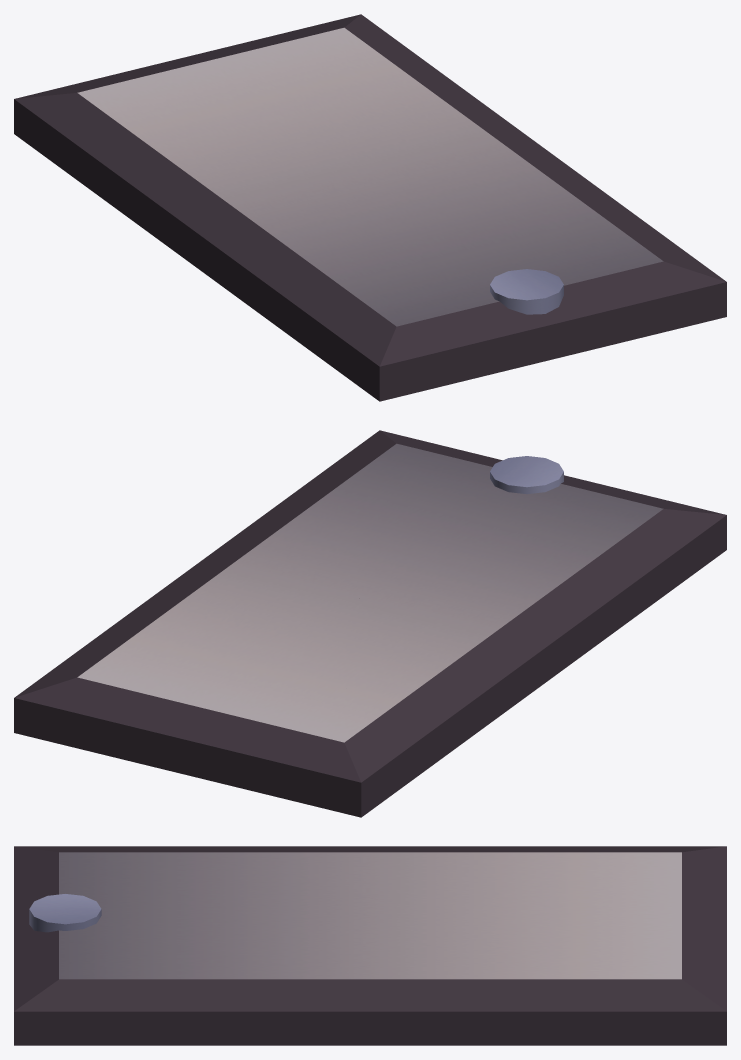
Rendered from M_phone_fragments.FBX.
3 renders of one model, top to bottom at view 1: azimuth 30°, elevation 25°; view 2: azimuth 150°, elevation 25°; view 3: azimuth 270°, elevation 25°, orthographic. The views are drawn at different scales.
Visible parts, largest first — view 1: Box015_Part_2, Box015_Part_1, Box015_Part_3; view 2: Box015_Part_3, Box015_Part_1, Box015_Part_2; view 3: Box015_Part_3, Box015_Part_2, Box015_Part_1.
Part boxes in pixels (x1,y1,x2,y2): Box015_Part_2: (315,171,726,401); Box015_Part_1: (14,91,463,354); Box015_Part_3: (41,14,576,197); Box015_Part_3: (14,533,365,810); Box015_Part_1: (331,548,663,817); Box015_Part_2: (230,430,726,596); Box015_Part_3: (283,854,726,1045); Box015_Part_2: (14,846,307,1045); Box015_Part_1: (139,846,726,939).
Bounding box in the file's own units: 8.52 × 15.55 × 1.3.
